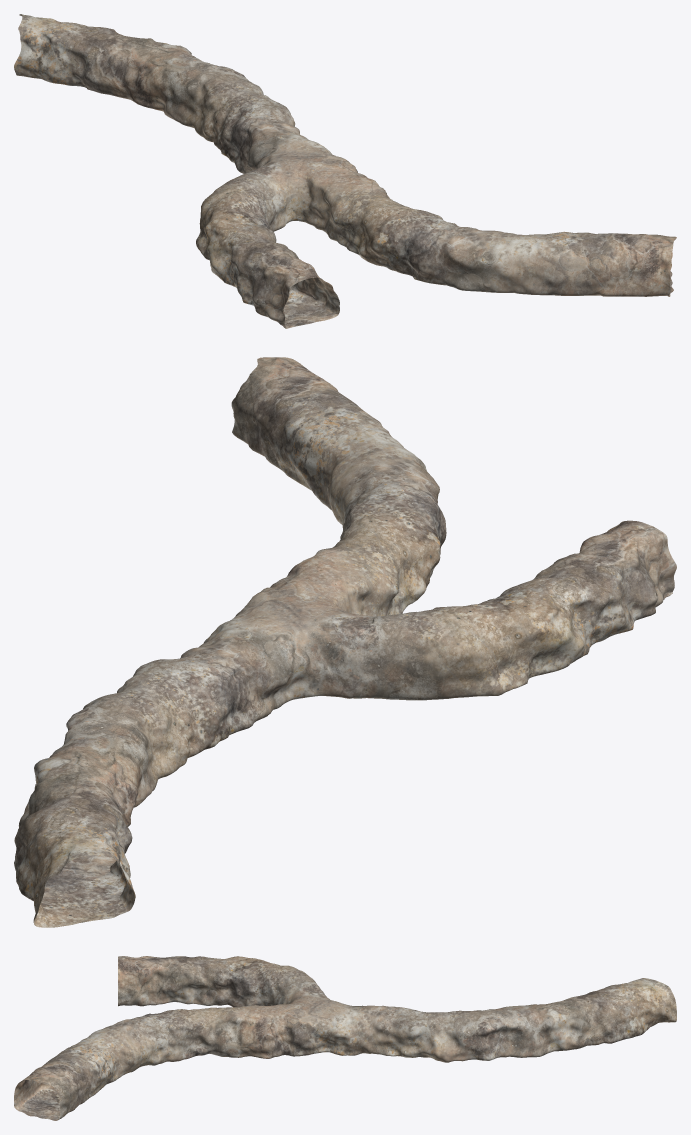
File: OuterCave.fbx
3 views of the same model, one above another, from view 1: azimuth 30°, elevation 25°; view 2: azimuth 150°, elevation 25°; view 3: azimuth 270°, elevation 25° (orthographic). The views are drawn at different scales.
Visible parts, largest first — view 1: Cave; view 2: Cave; view 3: Cave.
Part boxes in pixels (x1,y1,x2,y2): Cave: (14, 14, 676, 328); Cave: (14, 357, 676, 927); Cave: (14, 956, 676, 1120).
Size of the model in its own units: 1390 by 190 by 2821.
